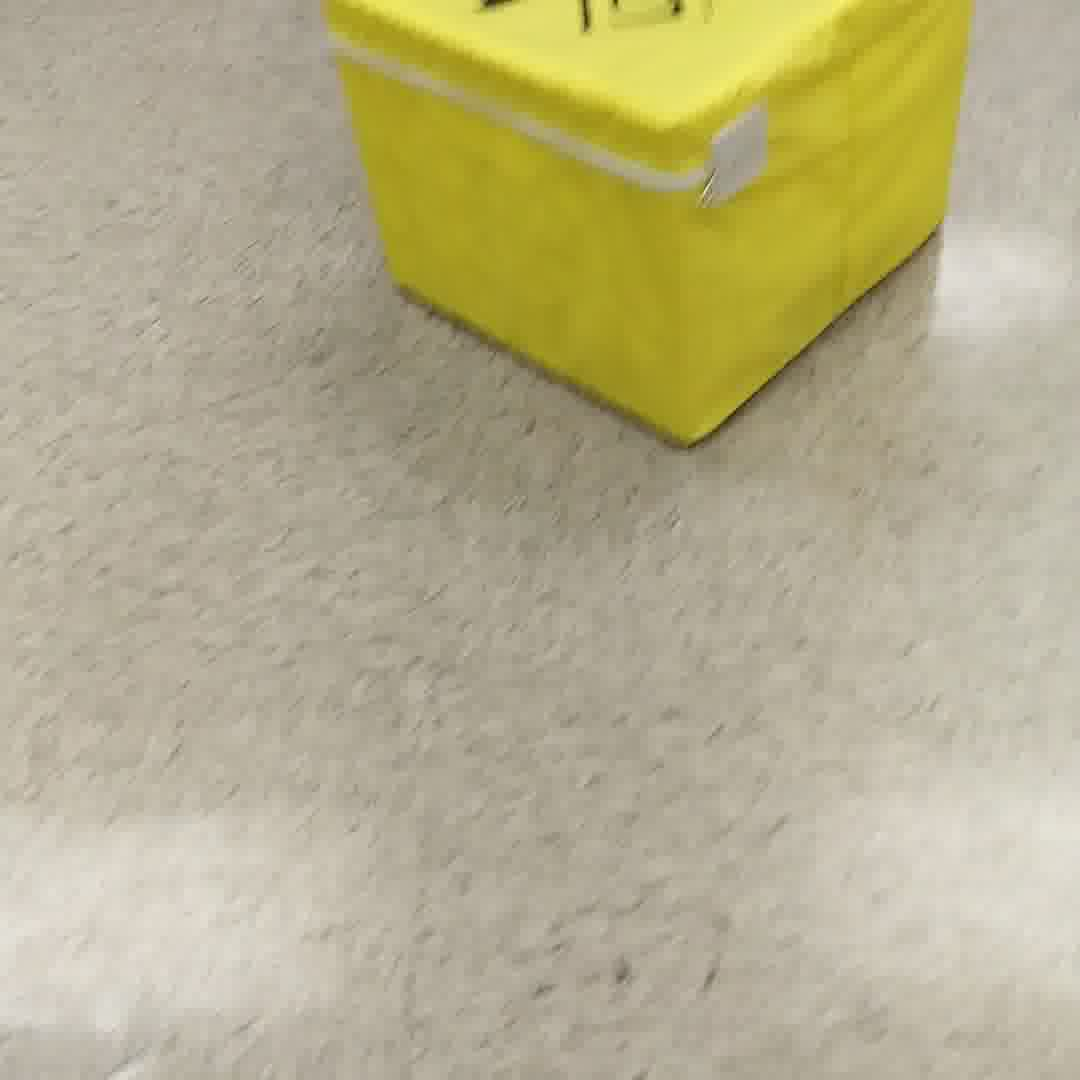box: (313, 3, 961, 445)
